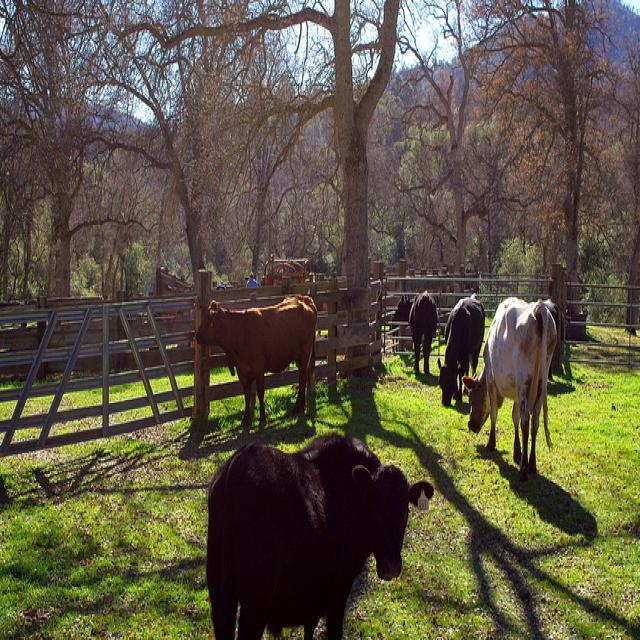cow: (206, 424, 432, 630), (461, 294, 557, 477), (194, 293, 316, 427), (434, 285, 482, 406), (388, 288, 437, 379)
